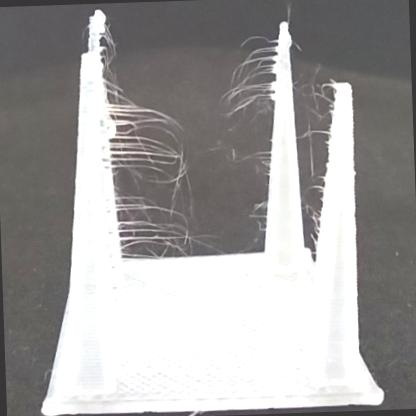fail: (106, 40, 192, 261), (218, 24, 286, 133)
